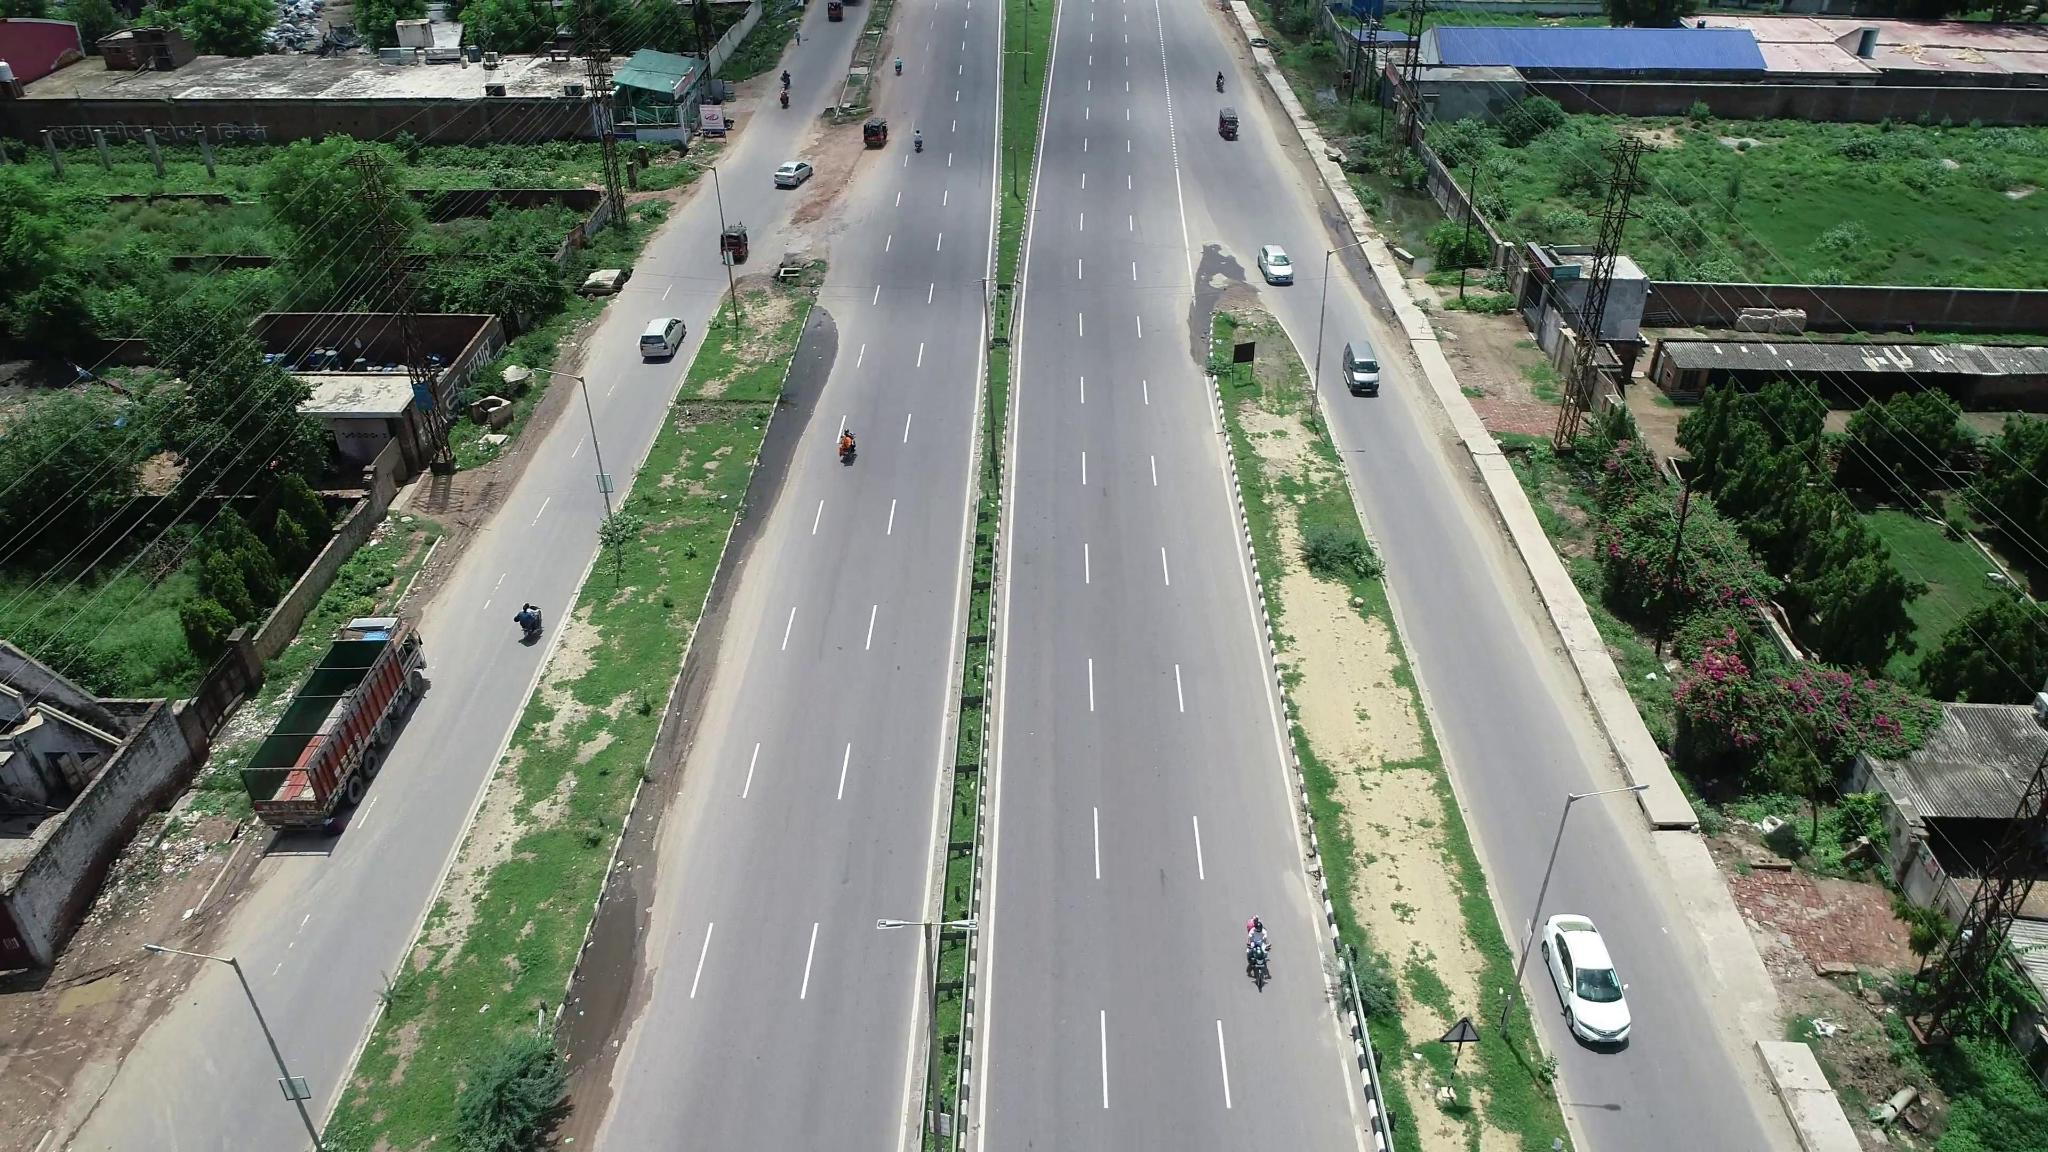Waterlogging: (546, 879, 646, 1080), (761, 316, 841, 489)
